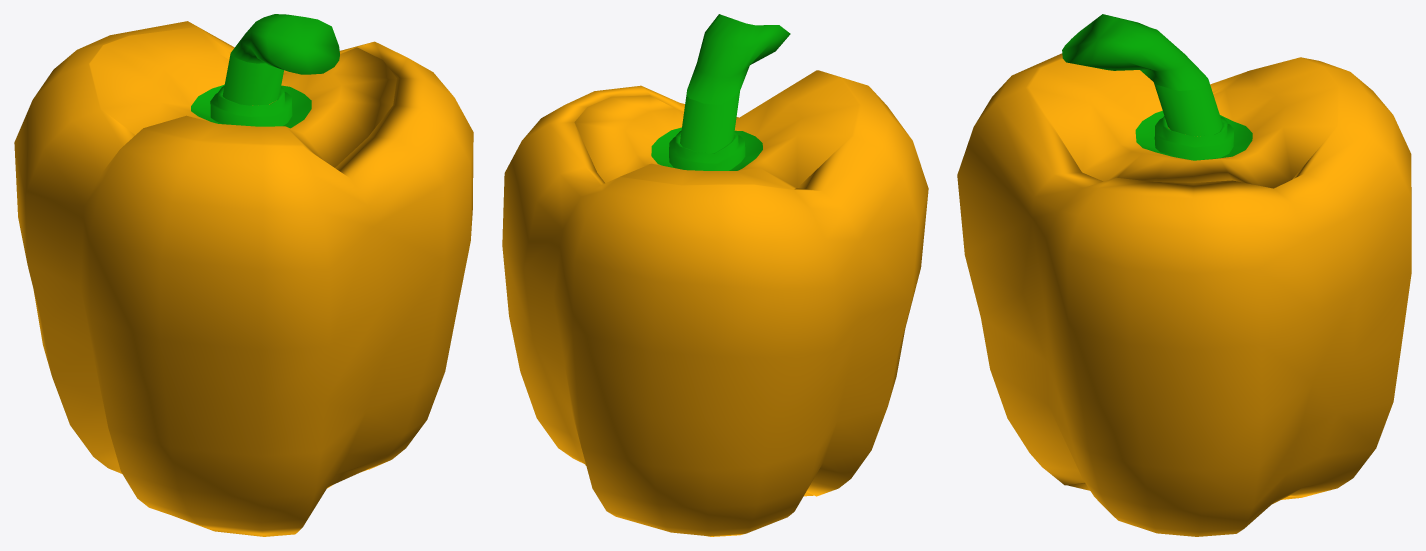
The model's file is bell_pepper_yellow.dae.
3 renders of one model, left to right at view 1: azimuth 30°, elevation 25°; view 2: azimuth 150°, elevation 25°; view 3: azimuth 270°, elevation 25°, orthographic. The views are drawn at different scales.
Parts seen in each view (by area): view 1: red_bell_pepper; view 2: red_bell_pepper; view 3: red_bell_pepper.
Boxes of the visible parts, x1,y1,x2,y2 form: red_bell_pepper: [14, 14, 473, 536]; red_bell_pepper: [502, 14, 928, 536]; red_bell_pepper: [957, 14, 1411, 536].
Bounding box in the file's own units: 0.0712 × 0.0733 × 0.0847.
